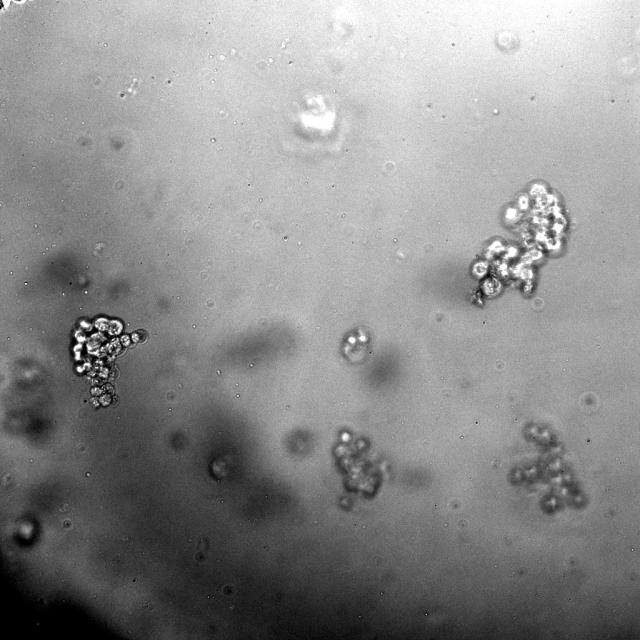organoid: (470, 180, 569, 305), (507, 421, 588, 515), (70, 315, 147, 409), (332, 428, 388, 510), (340, 326, 372, 364)
